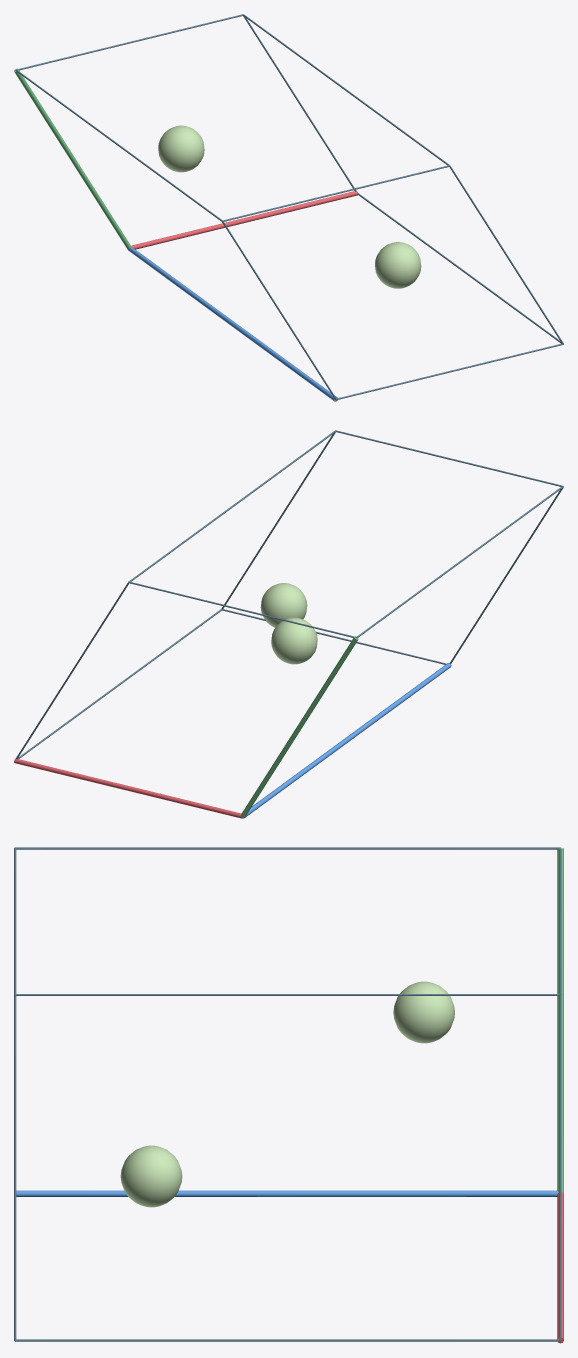
The model's file is nguyen-to-dy.glb.
3 renders of one model, top to bottom at view 1: azimuth 30°, elevation 25°; view 2: azimuth 150°, elevation 25°; view 3: azimuth 270°, elevation 25°, orthographic. The views are drawn at different scales.
Visible parts, largest first — view 1: Ô mạng và các trục a, b, c, Dy · Dy · 1 (×2); view 2: Ô mạng và các trục a, b, c, Dy · Dy · 1 (×2); view 3: Ô mạng và các trục a, b, c, Dy · Dy · 1 (×2).
Boxes of the visible parts, x1,y1,x2,y2 form: Ô mạng và các trục a, b, c: [14, 14, 563, 401]; Dy · Dy · 1 (×2): [158, 125, 421, 288]; Ô mạng và các trục a, b, c: [14, 430, 563, 818]; Dy · Dy · 1 (×2): [260, 583, 317, 664]; Ô mạng và các trục a, b, c: [14, 847, 563, 1343]; Dy · Dy · 1 (×2): [120, 981, 454, 1207].
Bounding box in the file's own units: 5.43 × 3.16 × 5.69.
